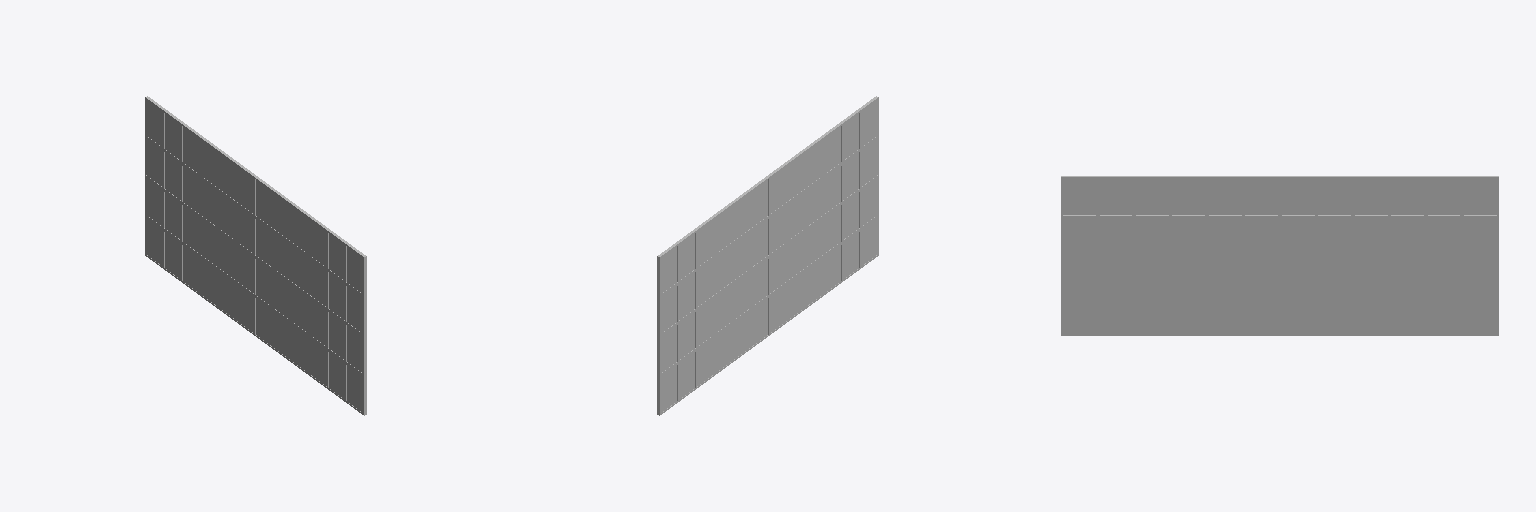
File: aken.obj
3 views of the same model, side by side, from view 1: azimuth 30°, elevation 25°; view 2: azimuth 150°, elevation 25°; view 3: azimuth 270°, elevation 25° (orthographic).
Parts seen in each view (by area): view 1: Object001, Plane001; view 2: Object001, Plane001; view 3: Object001, Plane001.
Part boxes in pixels (bbox=[...]): Object001: bbox=[146, 100, 362, 412]; Plane001: bbox=[145, 96, 366, 415]; Object001: bbox=[661, 100, 877, 412]; Plane001: bbox=[657, 96, 878, 415]; Object001: bbox=[1063, 179, 1496, 333]; Plane001: bbox=[1061, 176, 1498, 335].
Bounding box in the file's own units: 0.04 × 2 × 5.